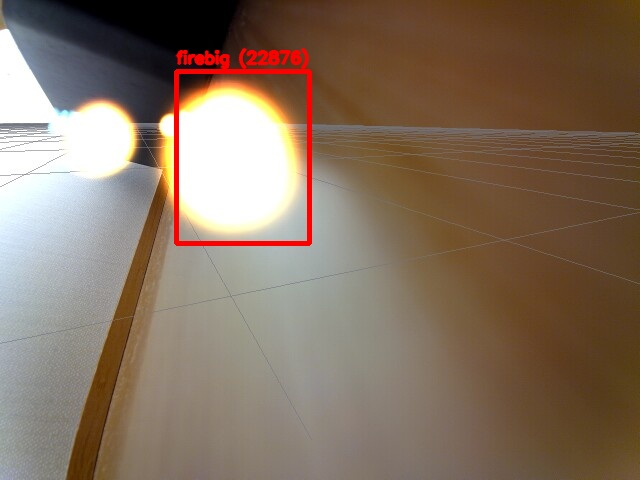firebig: (176, 71, 309, 243)
